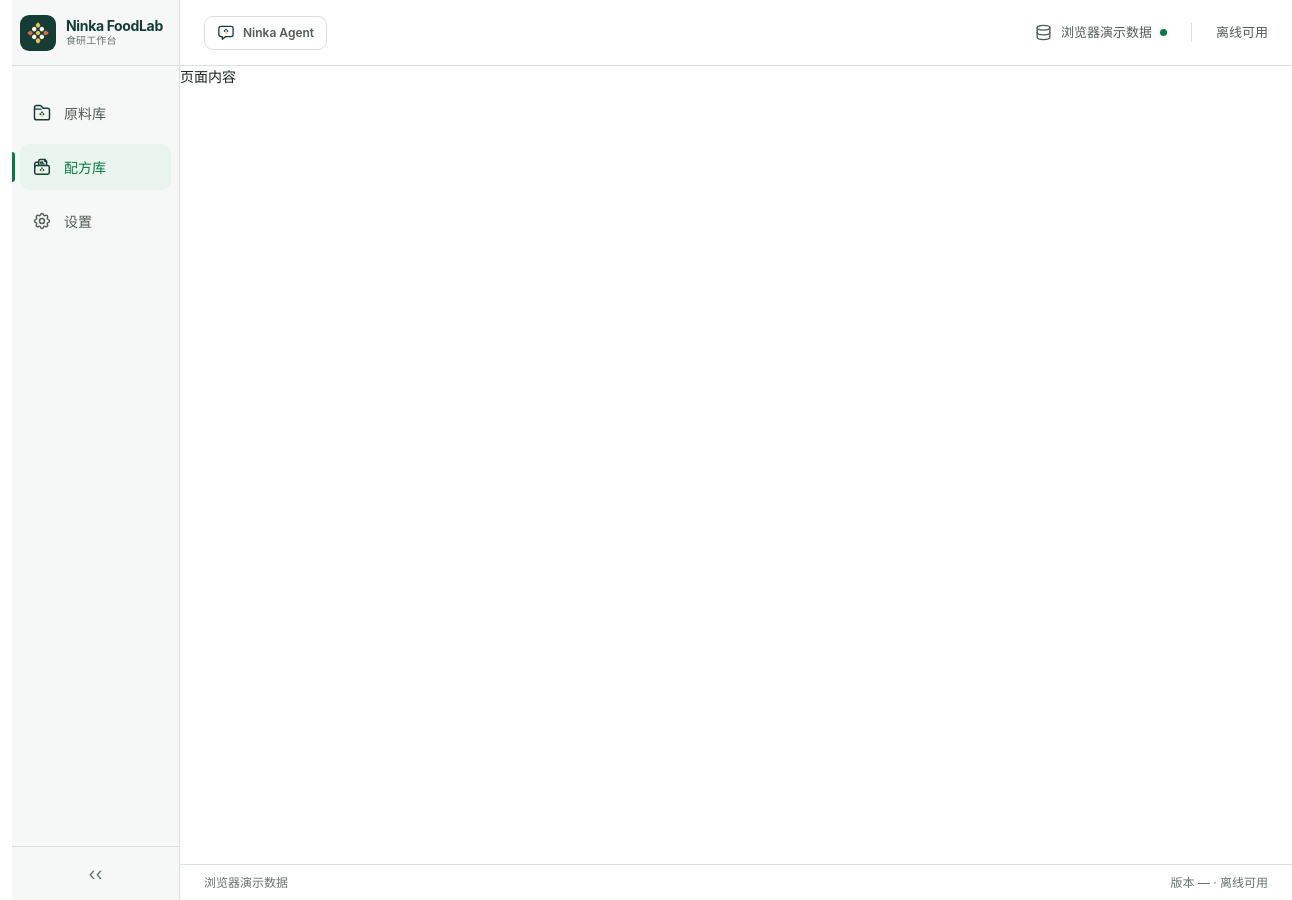
Test case: AppShell › keeps compact navigation named and lets desktop users collapse it
Expected: the picture named "Ninka FoodLab 品牌标志" is shown, [20,14,56,50]
Expected: the text "Ninka FoodLab" is shown, [66,18,163,34]
Click the button "原料库". click: (96, 113)
box: [20,90,171,136]
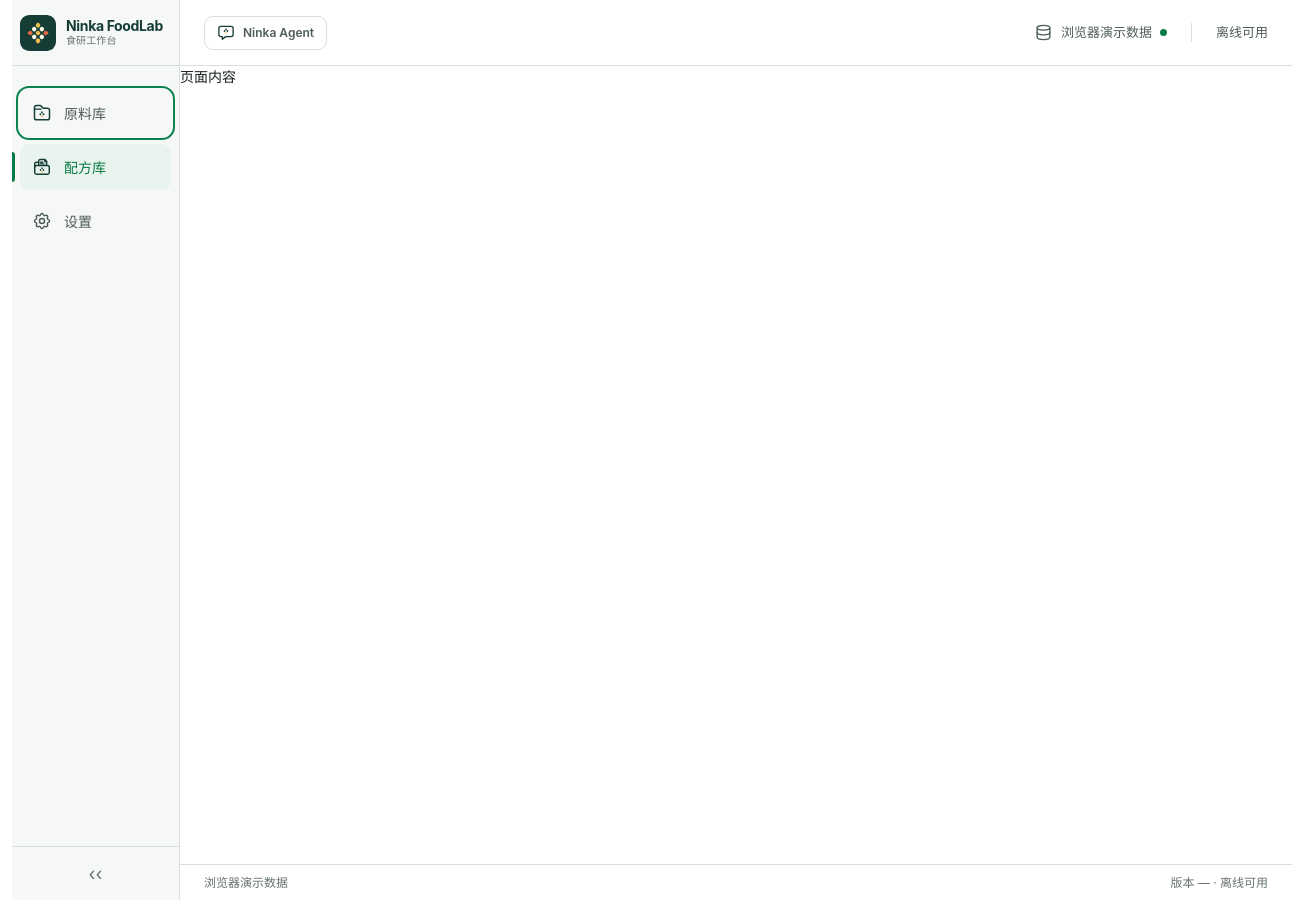
Click the button named "收起导航". click: (96, 873)
box: [12,846,179,899]
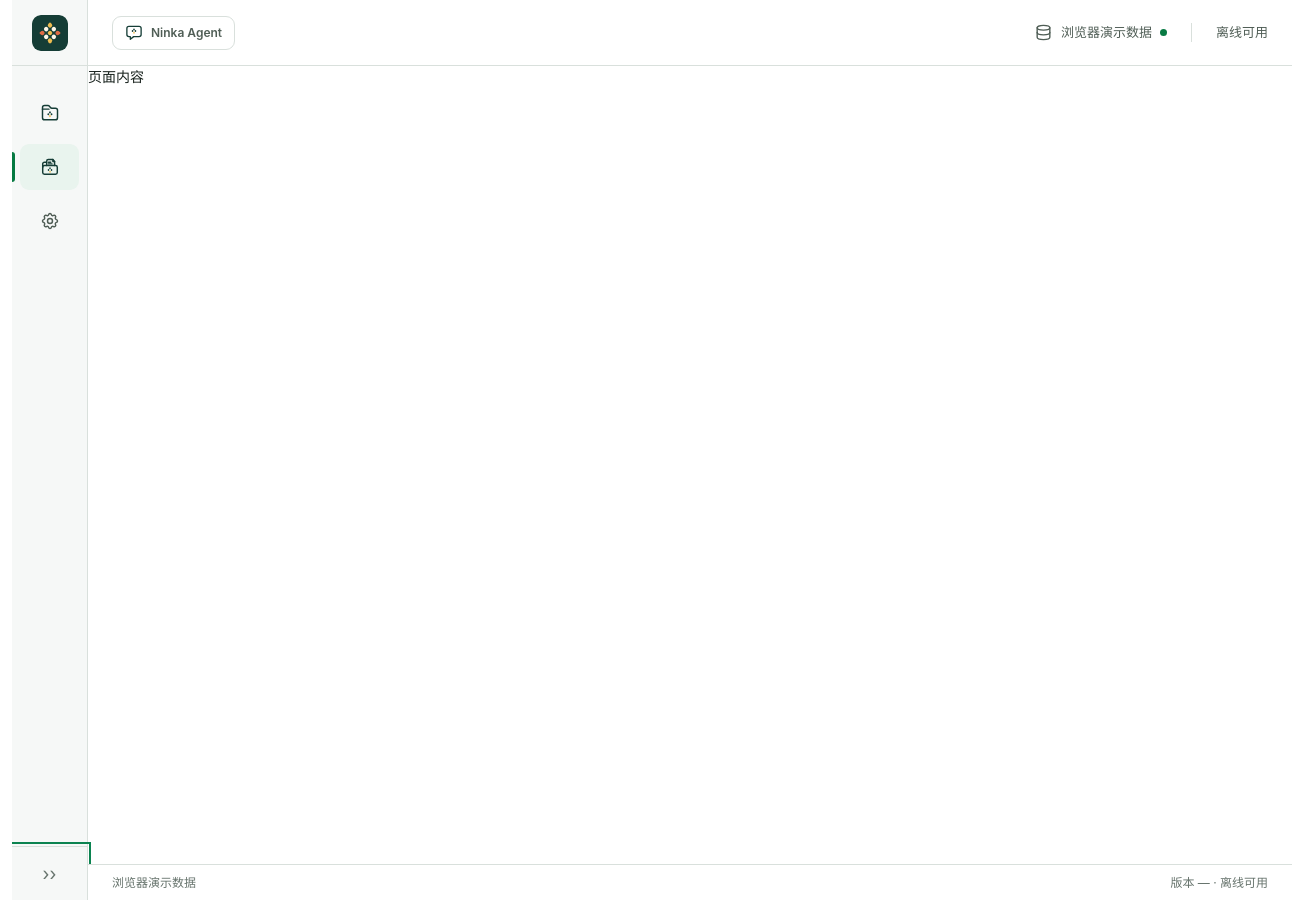
Expected: the icon named "原料库" is shown, [40,103,60,123]
Now the button named "展开导航" is shown, box [12,846,87,899]
